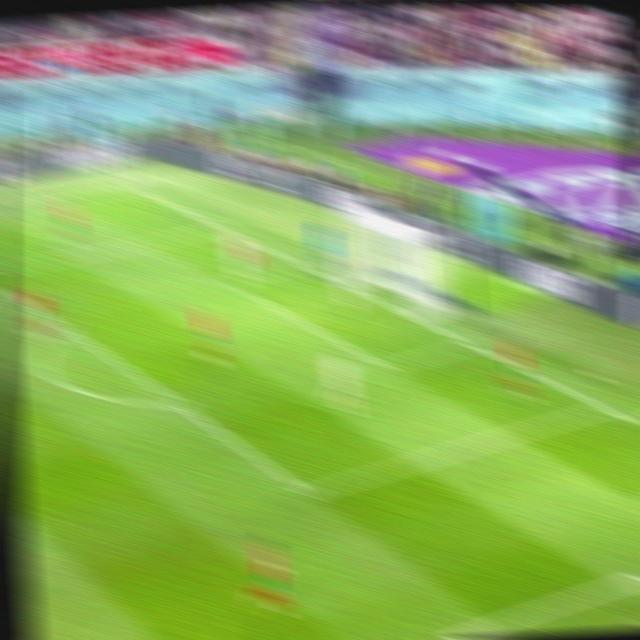bigarea_bottom_inner: (291, 476, 323, 507)
bigarea_bottom_outter: (588, 395, 619, 421)
bigarea_top_outter: (206, 216, 231, 236)
bottom_arc_area_intersection: (162, 389, 194, 416)
corner: (120, 179, 148, 198)
smallarea_bottom_inner: (370, 349, 401, 380)
smallarea_bottom_outter: (454, 331, 483, 356)
smallarea_top_inner: (211, 267, 240, 294)
smallarea_top_outter: (285, 252, 314, 276)
top_arc_area_intersection: (49, 313, 77, 338)
